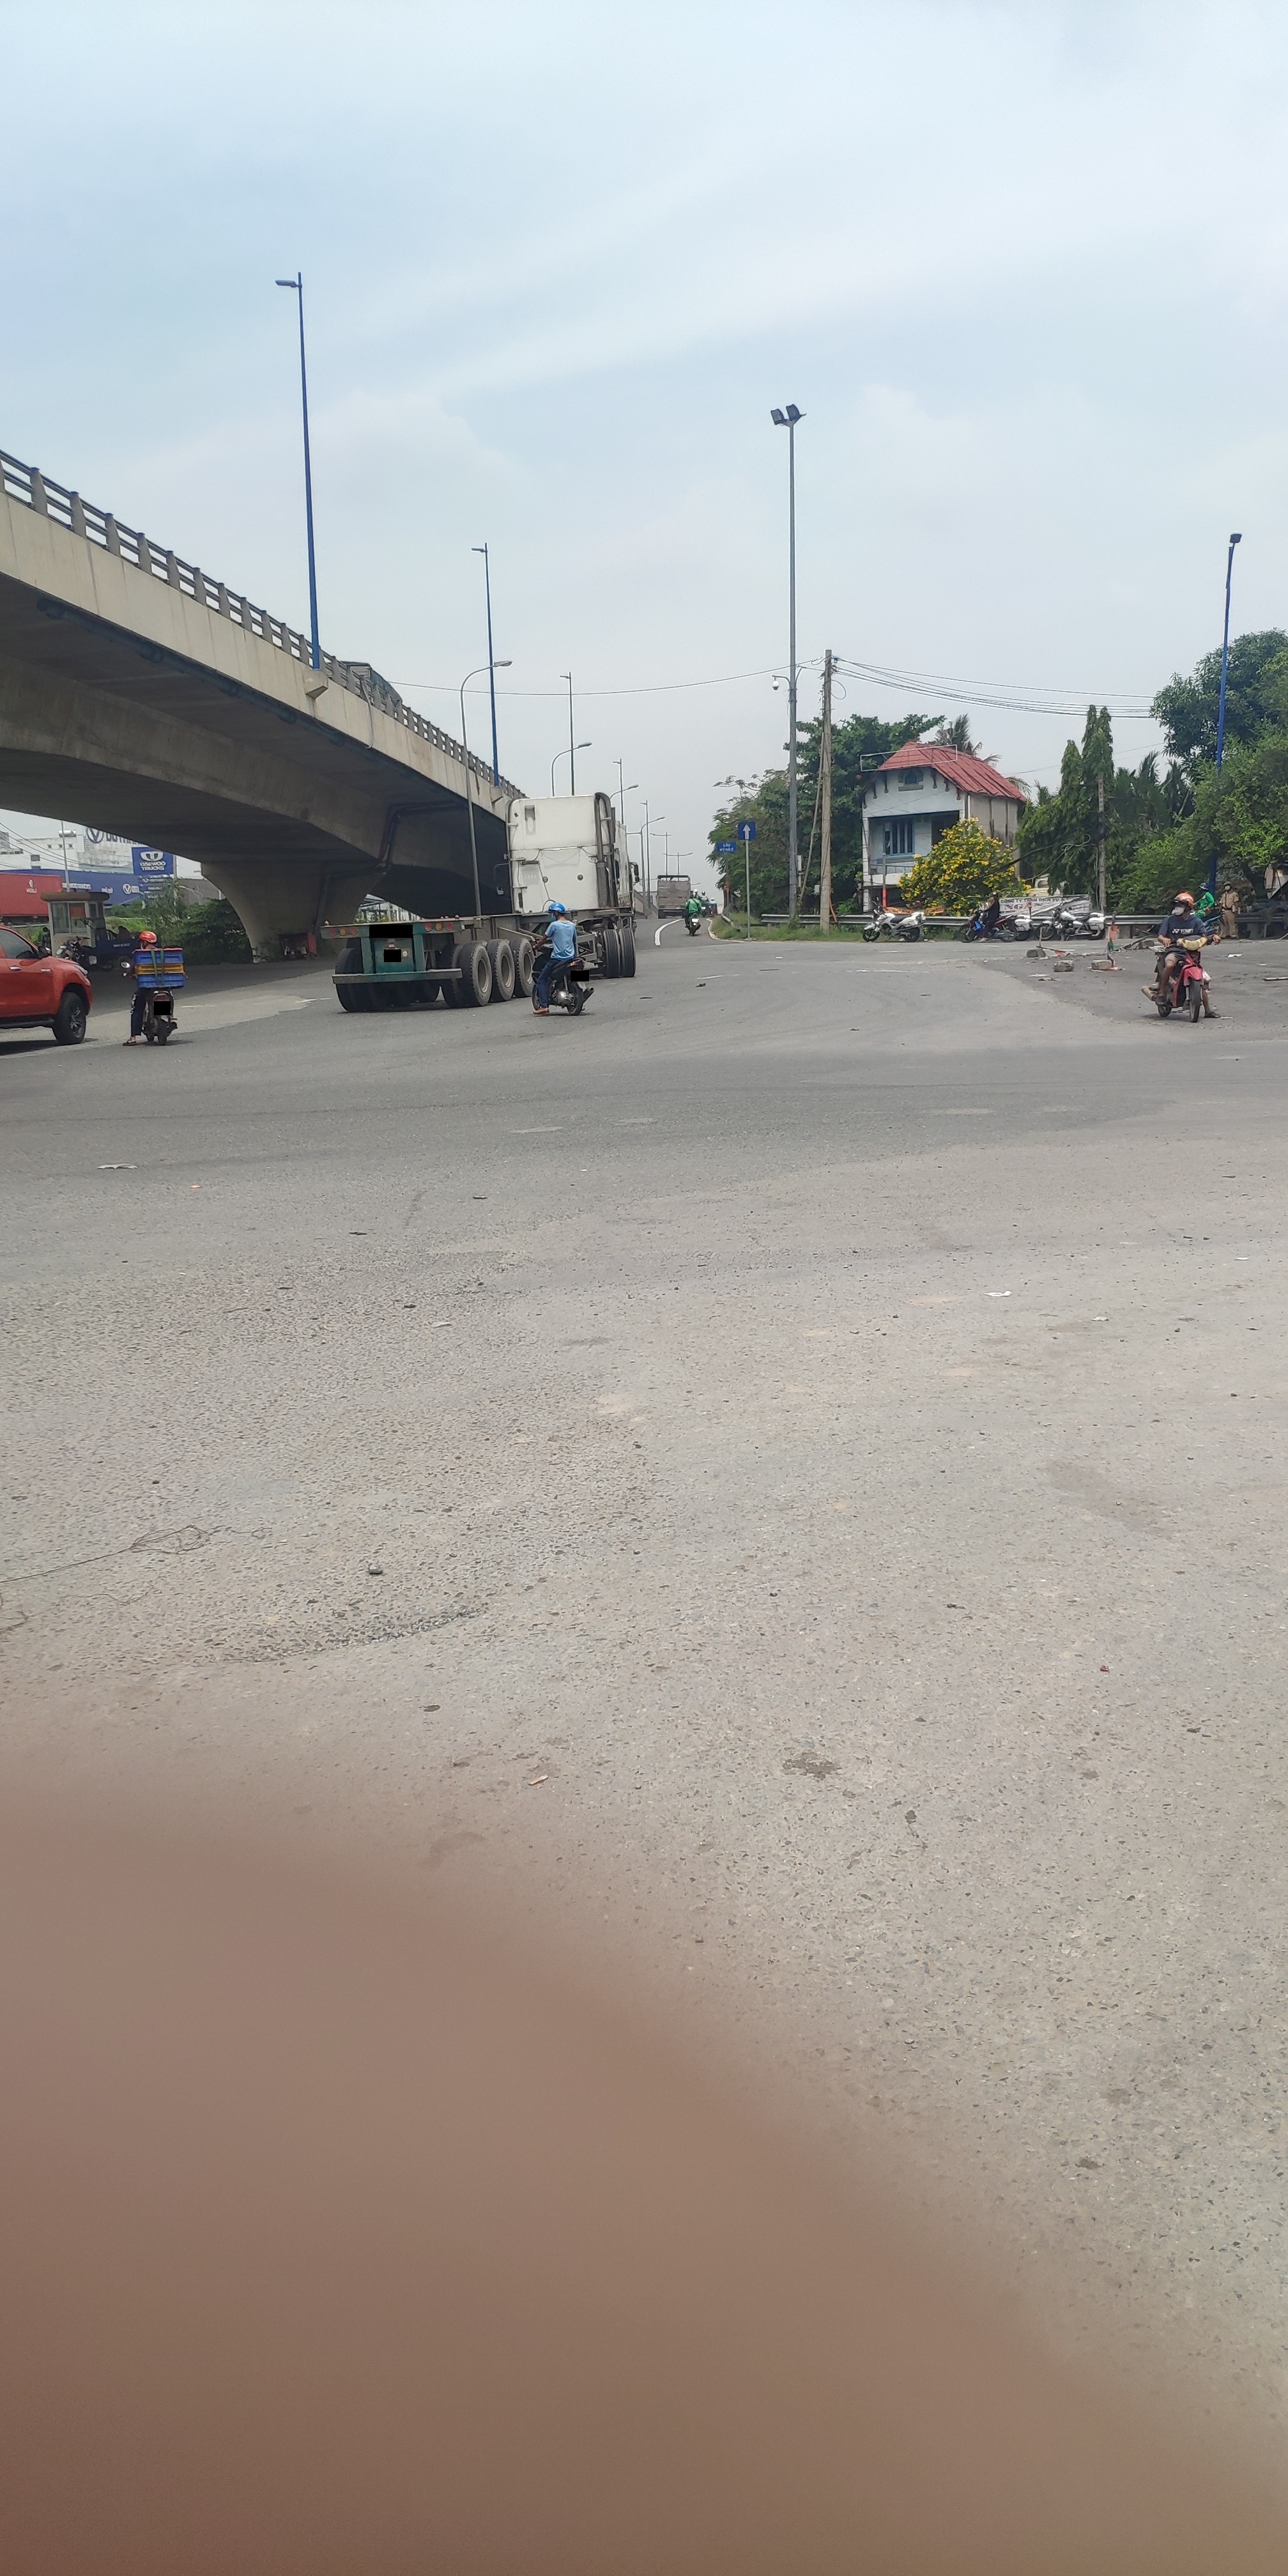hole: (163, 1572, 526, 1664)
